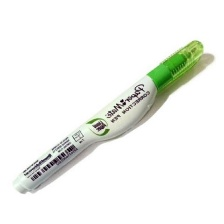correction_fluid: (11, 36, 207, 198)
